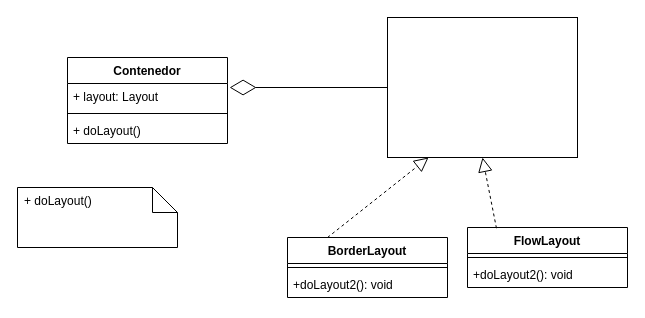
The diagram is 645 pixels wide and 318 high, and some of its shapes have lost their labels. The box of each missing label's shape, as (x1, y1, x2, y2) in pixels:
<<Interface>> Layout +doLayout2(): void: (386, 16, 578, 158)
layout.doLayout2();: (16, 186, 178, 248)
